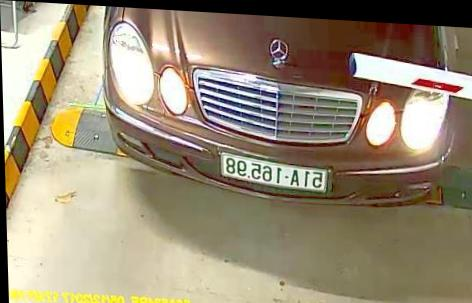License_Plate: (219, 156, 328, 191)
